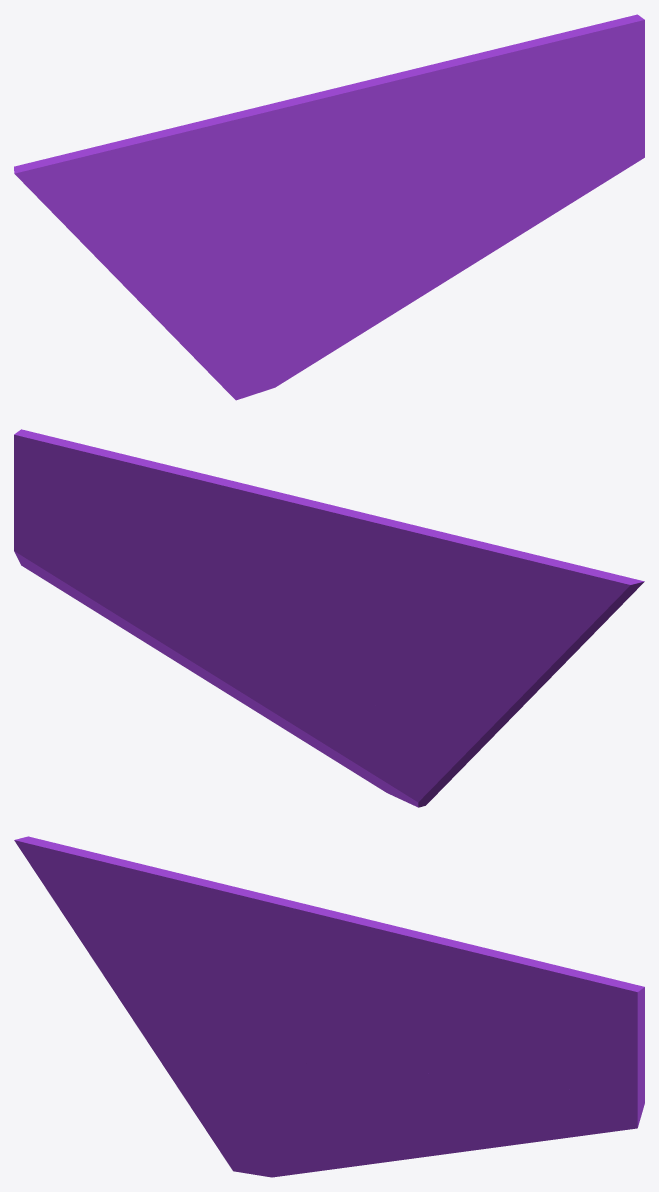
The model's file is Glass_15_2_chunks.fbx.
3 views of the same model, one above another, from view 1: azimuth 30°, elevation 25°; view 2: azimuth 150°, elevation 25°; view 3: azimuth 330°, elevation 25° (orthographic).
Parts seen in each view (by area): view 1: Glass_15_2_6, Glass_15_2_15, Glass_15_2_7, Glass_15_2_12, Glass_15_2_14, Glass_15_2_2, Glass_15_2_0, Glass_15_2_8, Glass_15_2_10, Glass_15_2_5, Glass_15_2_1, Glass_15_2_13 (+3 smaller); view 2: Glass_15_2_15, Glass_15_2_7, Glass_15_2_4, Glass_15_2_0, Glass_15_2_6, Glass_15_2_5, Glass_15_2_10, Glass_15_2_12, Glass_15_2_14, Glass_15_2_13, Glass_15_2_8, Glass_15_2_9 (+3 smaller); view 3: Glass_15_2_6, Glass_15_2_15, Glass_15_2_7, Glass_15_2_14, Glass_15_2_12, Glass_15_2_2, Glass_15_2_0, Glass_15_2_8, Glass_15_2_10, Glass_15_2_5, Glass_15_2_1, Glass_15_2_13 (+3 smaller).
Part boxes in pixels (x1=…): Glass_15_2_6: x1=14, y1=127, x2=245, y2=272; Glass_15_2_15: x1=438, y1=14, x2=644, y2=129; Glass_15_2_7: x1=180, y1=84, x2=352, y2=196; Glass_15_2_12: x1=346, y1=63, x2=477, y2=181; Glass_15_2_14: x1=465, y1=64, x2=644, y2=192; Glass_15_2_2: x1=111, y1=228, x2=321, y2=311; Glass_15_2_0: x1=121, y1=283, x2=276, y2=400; Glass_15_2_8: x1=366, y1=210, x2=504, y2=328; Glass_15_2_10: x1=481, y1=126, x2=644, y2=244; Glass_15_2_5: x1=216, y1=171, x2=353, y2=250; Glass_15_2_1: x1=260, y1=300, x2=368, y2=392; Glass_15_2_13: x1=351, y1=145, x2=467, y2=229; Glass_15_2_15: x1=14, y1=429, x2=212, y2=551; Glass_15_2_7: x1=290, y1=501, x2=467, y2=609; Glass_15_2_4: x1=408, y1=544, x2=538, y2=694; Glass_15_2_0: x1=368, y1=686, x2=539, y2=807; Glass_15_2_6: x1=467, y1=538, x2=644, y2=692; Glass_15_2_5: x1=288, y1=580, x2=447, y2=678; Glass_15_2_10: x1=14, y1=527, x2=181, y2=651; Glass_15_2_12: x1=194, y1=474, x2=315, y2=571; Glass_15_2_14: x1=14, y1=487, x2=179, y2=587; Glass_15_2_13: x1=177, y1=542, x2=290, y2=628; Glass_15_2_8: x1=160, y1=627, x2=299, y2=734; Glass_15_2_9: x1=176, y1=590, x2=301, y2=686; Glass_15_2_6: x1=14, y1=836, x2=243, y2=1013; Glass_15_2_15: x1=447, y1=938, x2=644, y2=1039; Glass_15_2_7: x1=191, y1=876, x2=362, y2=998; Glass_15_2_14: x1=460, y1=1020, x2=644, y2=1097; Glass_15_2_12: x1=342, y1=918, x2=472, y2=1030; Glass_15_2_2: x1=110, y1=985, x2=317, y2=1102; Glass_15_2_0: x1=120, y1=1000, x2=273, y2=1175; Glass_15_2_8: x1=362, y1=1091, x2=498, y2=1164; Glass_15_2_10: x1=476, y1=1080, x2=644, y2=1146; Glass_15_2_5: x1=213, y1=975, x2=348, y2=1050; Glass_15_2_1: x1=257, y1=1099, x2=364, y2=1177; Glass_15_2_13: x1=347, y1=1010, x2=462, y2=1076.
Size of the model in its own units: 1344 by 572 by 27.2.
